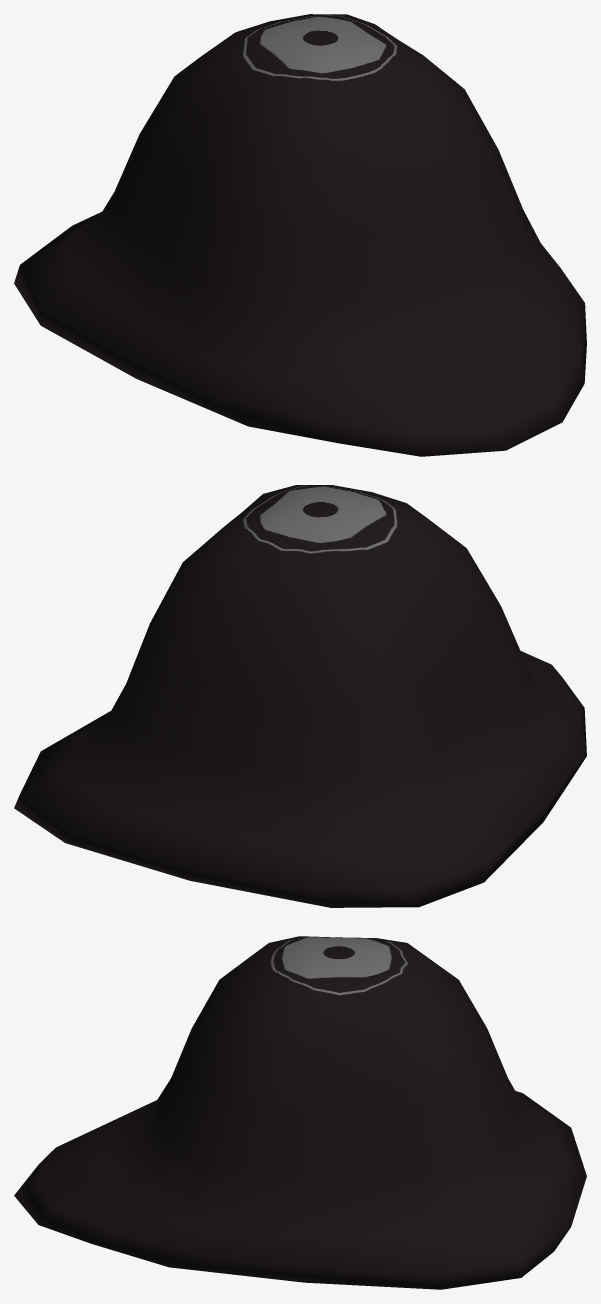
Rendered from Helmet Mesh.fbx.
3 renders of one model, top to bottom at view 1: azimuth 30°, elevation 25°; view 2: azimuth 150°, elevation 25°; view 3: azimuth 270°, elevation 25°, orthographic. The views are drawn at different scales.
Visible parts, largest first — view 1: Helmet; view 2: Helmet; view 3: Helmet.
Part boxes in pixels (x1,y1,x2,y2): Helmet: (14, 14, 586, 456); Helmet: (14, 485, 586, 907); Helmet: (14, 936, 586, 1289).
Bounding box in the file's own units: 206 × 126 × 260.
